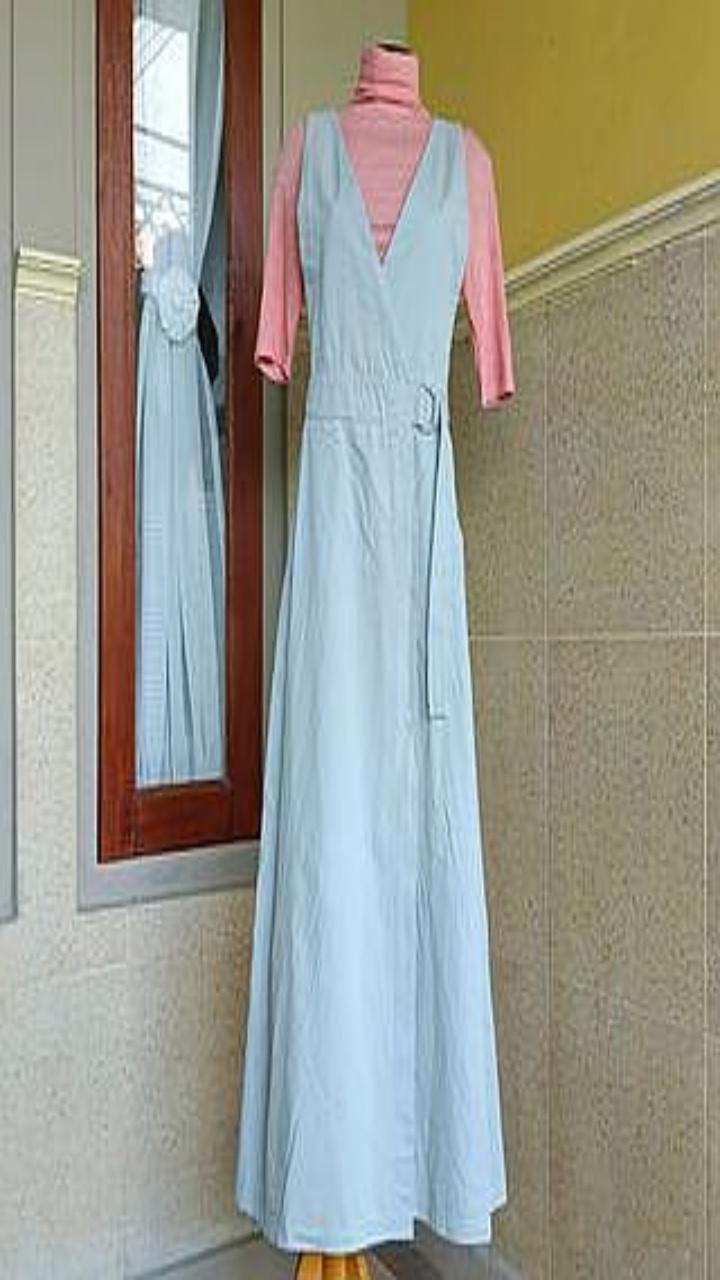Dresses: (236, 109, 505, 1252)
